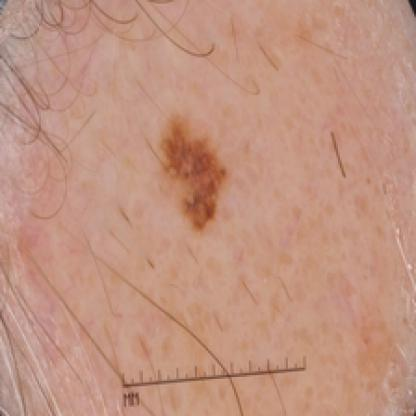malignant: (156, 113, 232, 230)
